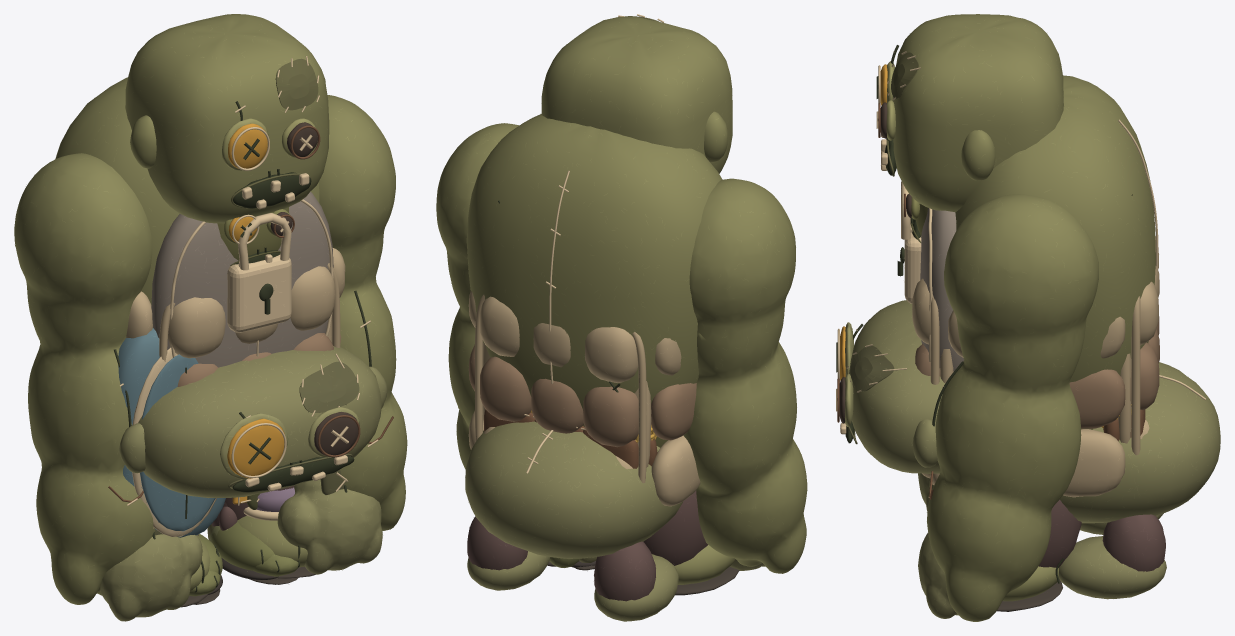
File: zombie-roster.glb
The picture shows the model from 3 angles, left to right: view 1: azimuth 30°, elevation 25°; view 2: azimuth 150°, elevation 25°; view 3: azimuth 270°, elevation 25°; orthographic projection. The views are drawn at different scales.
Parts seen in each view (by area): view 1: boss-warden / continuous stuffed ArmL, boss-warden / sculpted head, boss-warden / continuous stuffed ArmR, crawler / sculpted head, boss-warden / grave cloth belly, crawler / continuous stuffed ArmR, boss-warden / massive low trapezoid torso, crawler / continuous stuffed ArmL, boss-warden / cloth lock, shielded / shield face, Mesh / LegR, heavy / inflated quilt cell.006 (+22 smaller); view 2: boss-warden / massive low trapezoid torso, boss-warden / continuous stuffed ArmL, crawler / horizontal low belly, boss-warden / sculpted head, boss-warden / continuous stuffed ArmR, heavy / inflated quilt cell.012, crawler / cloth leg, heavy / inflated quilt cell.014, heavy / side quilt cell.001, heavy / inflated quilt cell.015, boss-warden / cloth leg, crawler / felt foot (+13 smaller); view 3: boss-warden / continuous stuffed ArmR, boss-warden / sculpted head, boss-warden / massive low trapezoid torso, crawler / horizontal low belly, crawler / sculpted head, crawler / felt foot.001, boss-warden / grave cloth belly, heavy / side quilt cell.007, crawler / cloth leg.001, heavy / side quilt cell.009, crawler / continuous stuffed ArmR, boss-warden / cloth leg.001 (+14 smaller).
Part boxes in pixels (x1,y1,x2,y2): boss-warden / continuous stuffed ArmL: [14, 153, 155, 604]; boss-warden / sculpted head: [125, 14, 329, 223]; boss-warden / continuous stuffed ArmR: [319, 95, 407, 531]; crawler / sculpted head: [138, 346, 381, 497]; boss-warden / grave cloth belly: [151, 191, 333, 367]; crawler / continuous stuffed ArmR: [277, 479, 382, 574]; boss-warden / massive low trapezoid torso: [55, 77, 319, 305]; crawler / continuous stuffed ArmL: [100, 534, 202, 621]; boss-warden / cloth lock: [227, 255, 291, 332]; shielded / shield face: [140, 354, 215, 531]; Mesh / LegR: [209, 496, 278, 579]; heavy / inflated quilt cell.006: [168, 297, 225, 358]; boss-warden / massive low trapezoid torso: [466, 114, 722, 426]; boss-warden / continuous stuffed ArmL: [683, 178, 807, 573]; crawler / horizontal low belly: [465, 421, 682, 558]; boss-warden / sculpted head: [541, 16, 732, 173]; boss-warden / continuous stuffed ArmR: [436, 123, 519, 469]; heavy / inflated quilt cell.012: [583, 386, 638, 447]; crawler / cloth leg: [594, 541, 655, 601]; heavy / inflated quilt cell.014: [480, 356, 531, 421]; heavy / side quilt cell.001: [651, 435, 700, 506]; heavy / inflated quilt cell.015: [585, 327, 637, 382]; boss-warden / cloth leg: [643, 490, 707, 565]; crawler / felt foot: [594, 554, 678, 621]; boss-warden / continuous stuffed ArmR: [927, 194, 1098, 621]; boss-warden / sculpted head: [892, 14, 1063, 212]; boss-warden / massive low trapezoid torso: [955, 75, 1155, 382]; crawler / horizontal low belly: [1060, 362, 1220, 523]; crawler / sculpted head: [849, 300, 945, 473]; crawler / felt foot.001: [1059, 536, 1166, 599]; boss-warden / grave cloth belly: [920, 208, 963, 371]; heavy / side quilt cell.007: [1063, 429, 1125, 497]; crawler / cloth leg.001: [1102, 514, 1165, 571]; heavy / side quilt cell.009: [1069, 369, 1125, 428]; crawler / continuous stuffed ArmR: [918, 532, 957, 618]; boss-warden / cloth leg.001: [1039, 499, 1081, 567].
Bounding box in the file's own units: 1.91 × 2.8 × 1.82.
